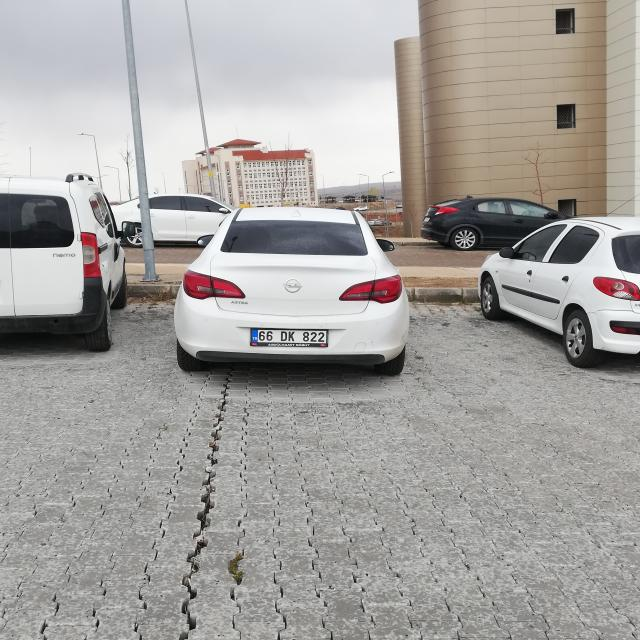license_plate: (250, 329, 328, 344)
